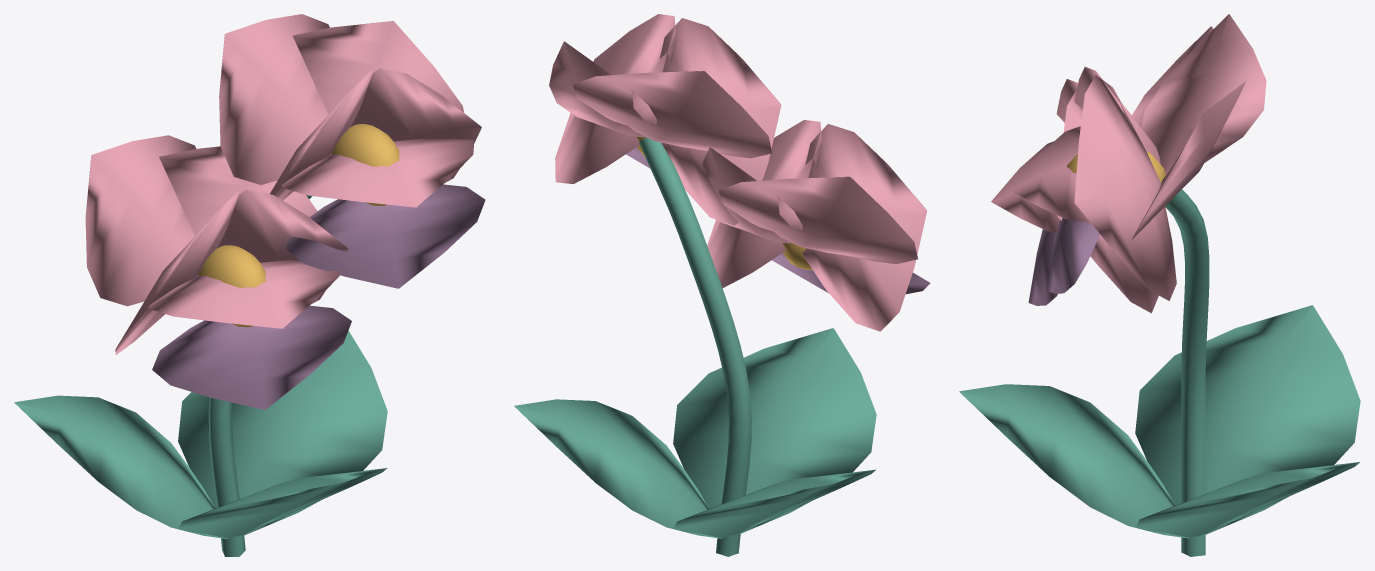
File: orchid.glb
3 views of the same model, side by side, from view 1: azimuth 30°, elevation 25°; view 2: azimuth 150°, elevation 25°; view 3: azimuth 270°, elevation 25° (orthographic). The views are drawn at different scales.
Visible parts, largest first — view 1: Vesper / orchid; view 2: Vesper / orchid; view 3: Vesper / orchid.
Part boxes in pixels (bbox=[...]): Vesper / orchid: bbox=[14, 14, 485, 556]; Vesper / orchid: bbox=[514, 14, 930, 556]; Vesper / orchid: bbox=[959, 14, 1360, 556].
Size of the model in its own units: 1.56 by 2.01 by 1.34.
